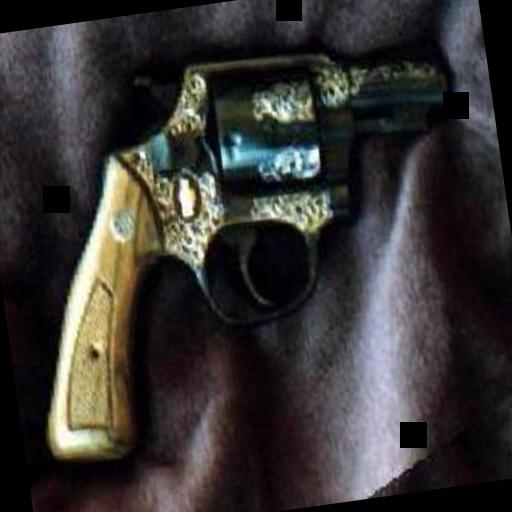Handgun: (0, 23, 492, 465)
